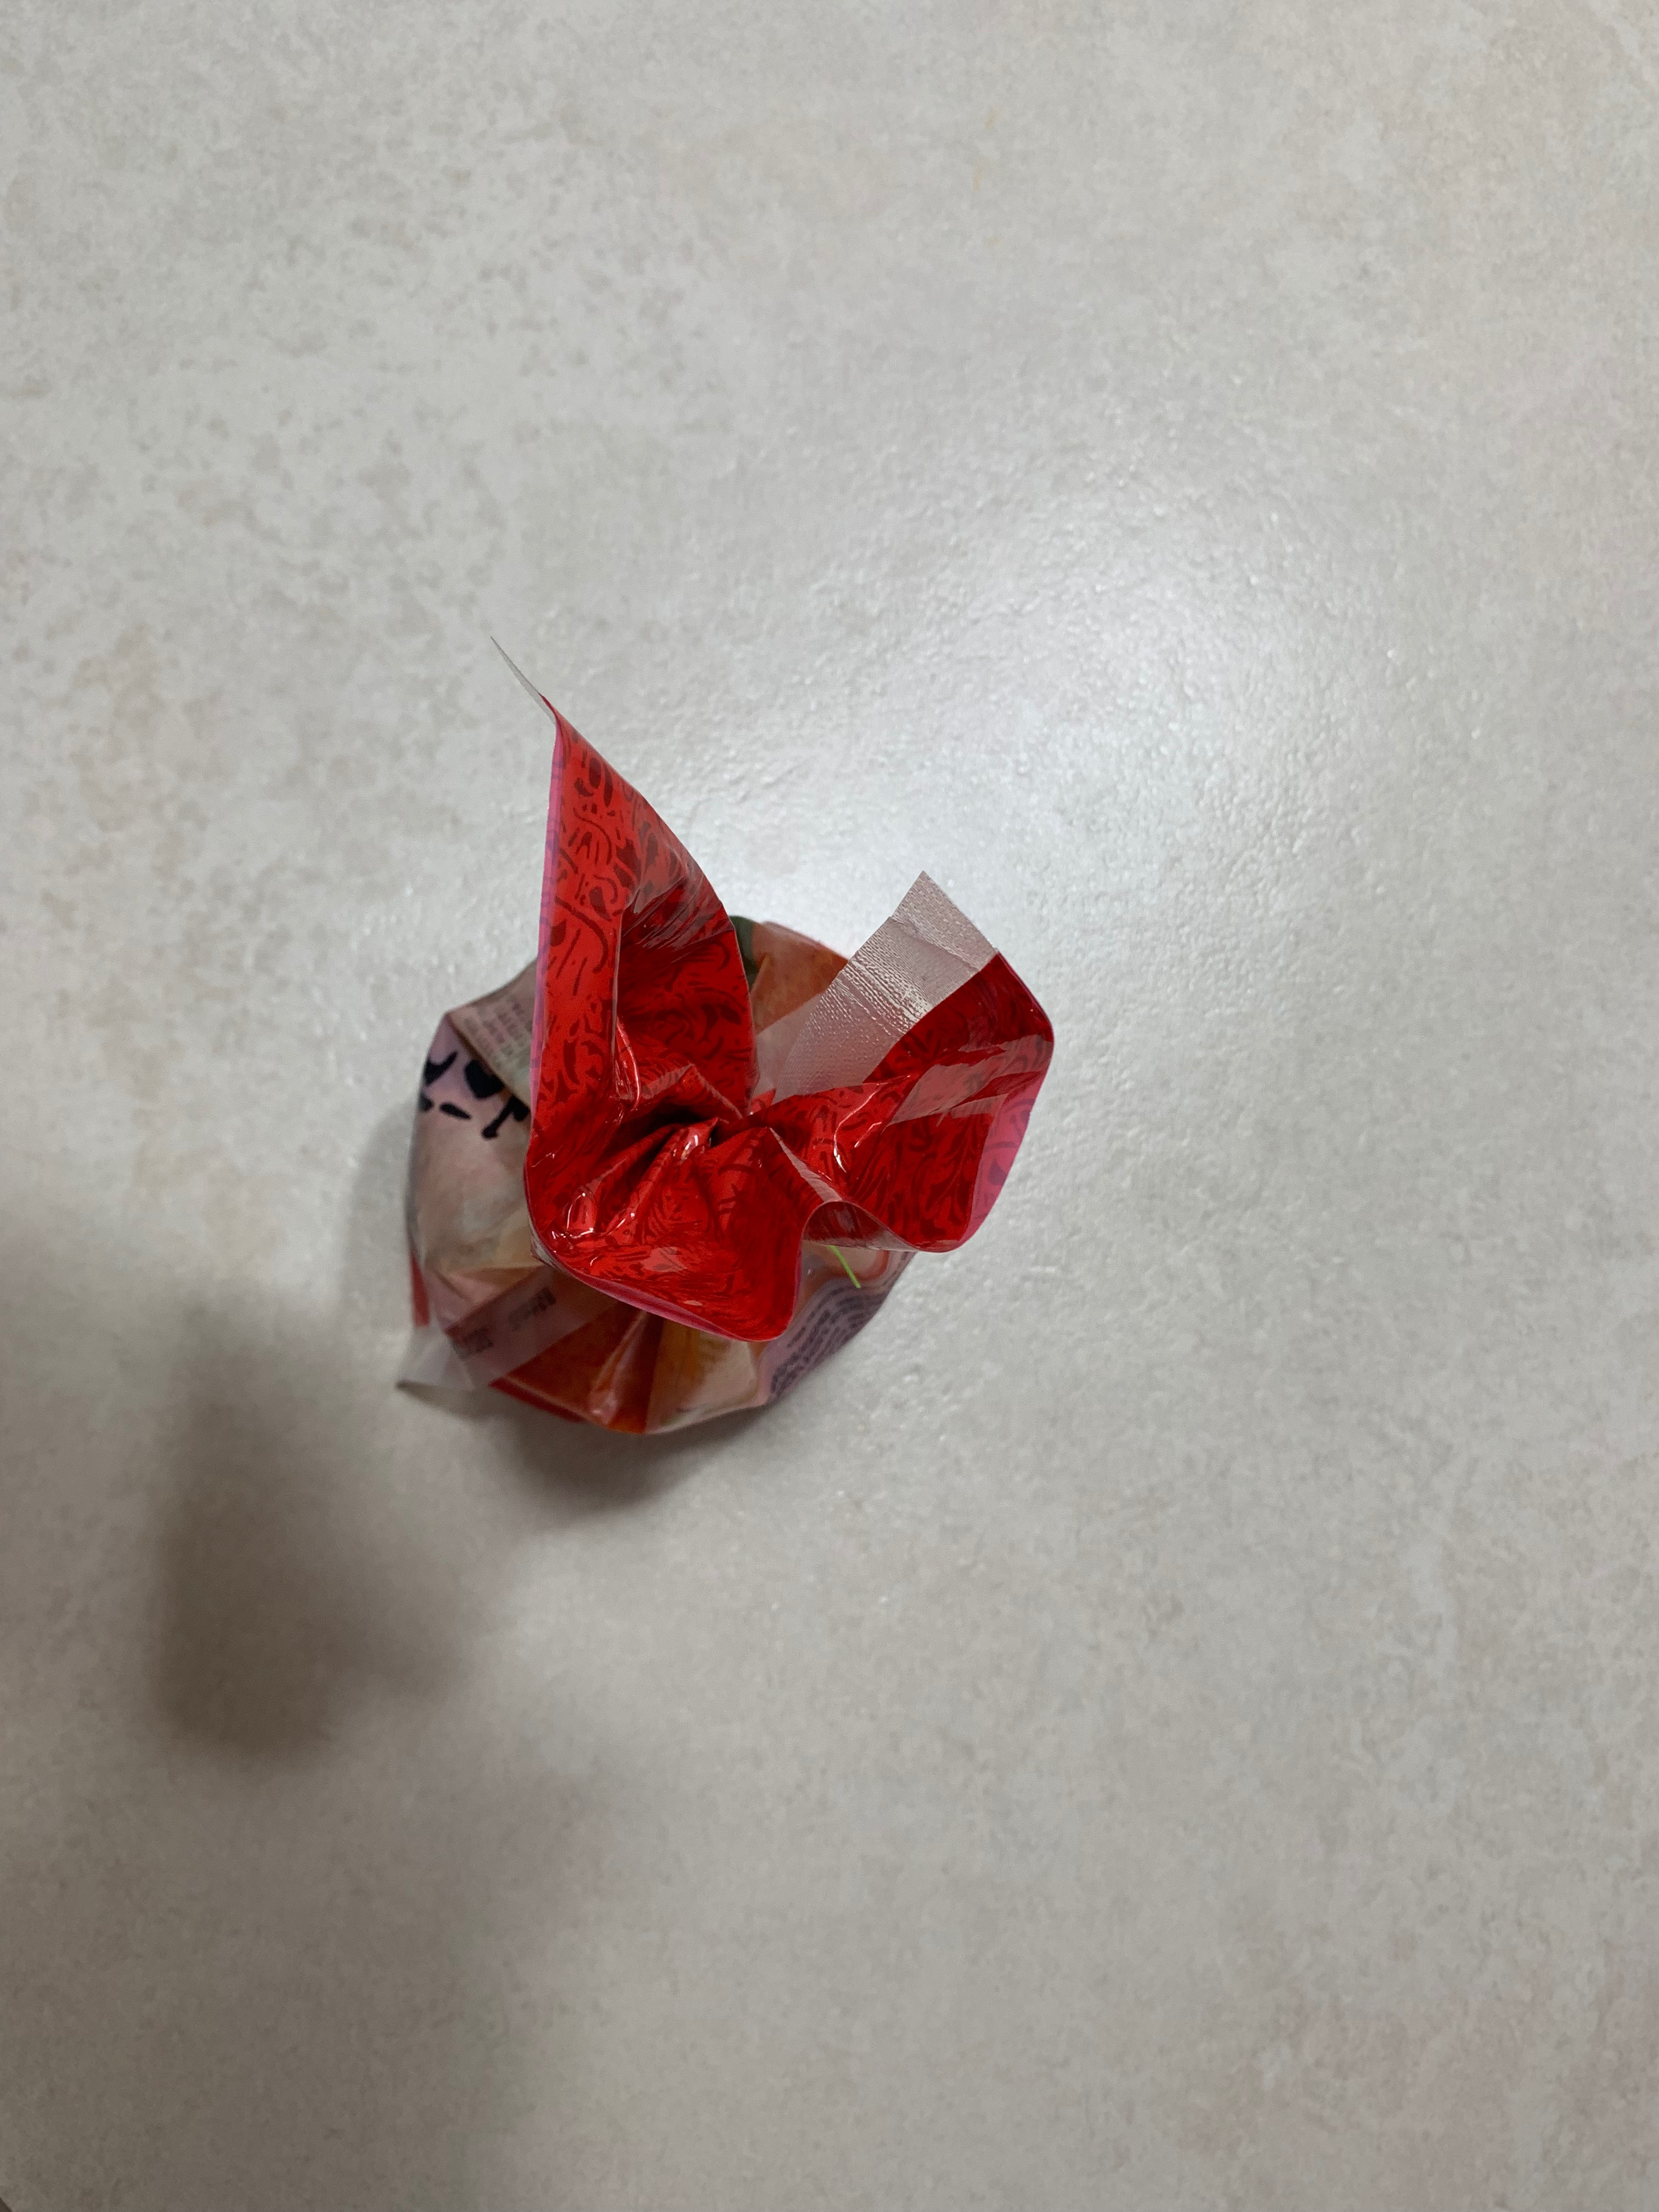kimchi: (408, 725, 1049, 1446)
